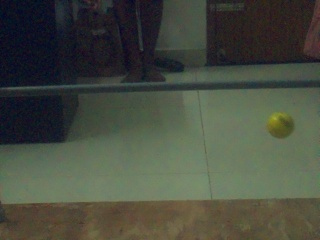ball: (266, 112, 294, 138)
